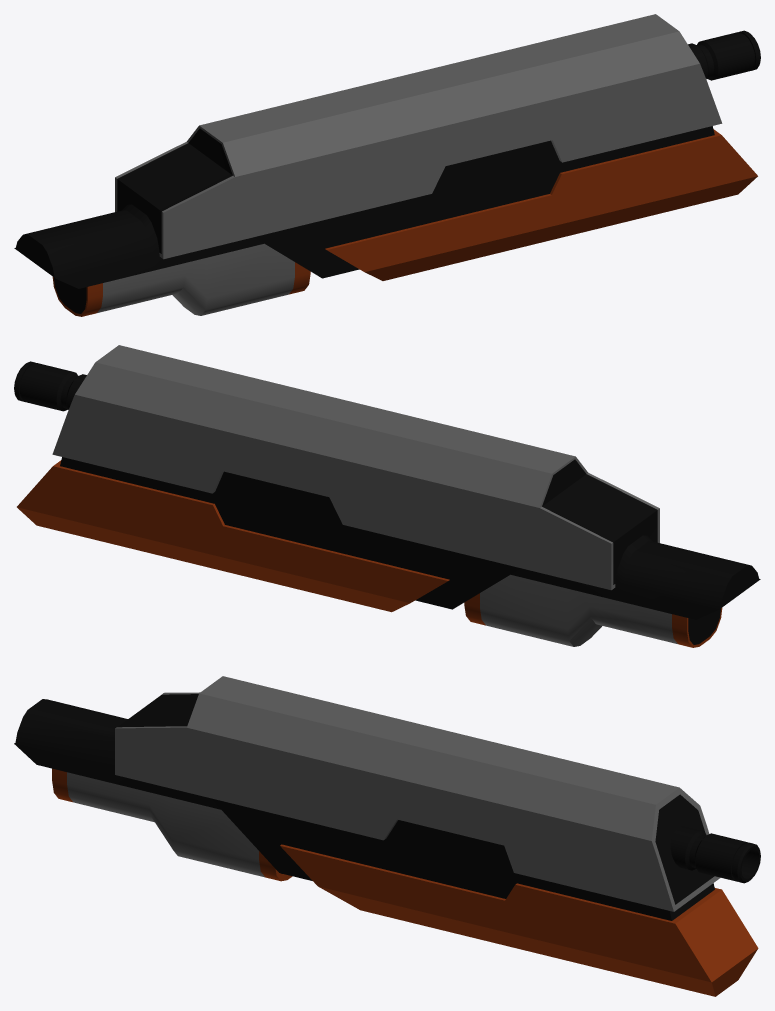
Rendered from Body_SMG_2.obj.
3 renders of one model, top to bottom at view 1: azimuth 30°, elevation 25°; view 2: azimuth 150°, elevation 25°; view 3: azimuth 330°, elevation 25°, orthographic.
Parts seen in each view (by area): view 1: Body_SMG_2_Cube.028; view 2: Body_SMG_2_Cube.028; view 3: Body_SMG_2_Cube.028.
Part boxes in pixels (left/top/right/bottom): Body_SMG_2_Cube.028: left=14, top=14, right=760, bottom=316; Body_SMG_2_Cube.028: left=14, top=345, right=760, bottom=647; Body_SMG_2_Cube.028: left=14, top=676, right=760, bottom=996.
Bounding box in the file's own units: 1.5 × 0.3561 × 0.176.
